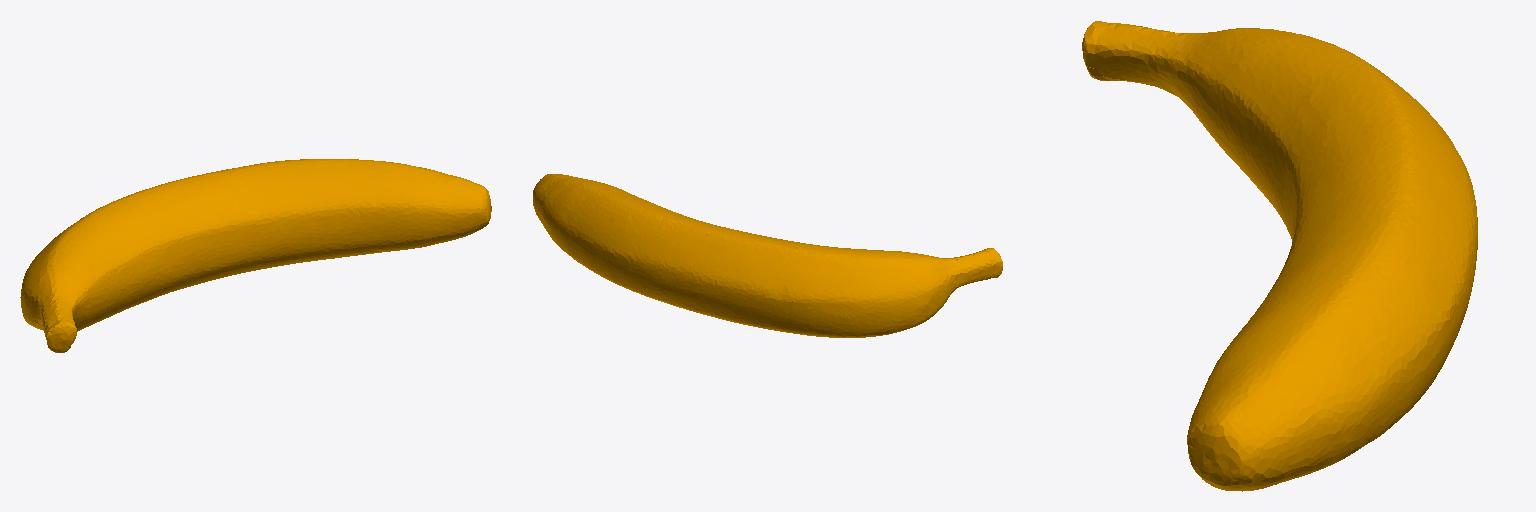
URDF robot description (model.urdf):
<?xml version="0.0" ?>
<robot name="model.urdf">
  <link name="baseLink">
    <contact>
      <lateral_friction value="1.0"/>
      <rolling_friction value="0.0"/>
      <contact_cfm value="0.0"/>
      <contact_erp value="1.0"/>
    </contact>
    <inertial>
       <mass value=".066"/>
       <inertia ixx="1e-3" ixy="0" ixz="0" iyy="1e-3" iyz="0" izz="1e-3"/>
    </inertial>
    <visual>
      <geometry>
        <mesh filename="textured_simple_reoriented.obj" scale="1 1 1"/>
      </geometry>
    </visual>
    <collision>
      <geometry>
    	 	<mesh filename="collision_vhacd.obj" scale="1 1 1"/>
      </geometry>
    </collision>
  </link>
</robot>

--- What the picture shows (computed from the rendered views, not written in the file) ---
Views: 3 orthographic renders of the robot side by side, from view 1: azimuth 30°, elevation 25°; view 2: azimuth 150°, elevation 25°; view 3: azimuth 270°, elevation 25°.
Robot: model.urdf — 1 links, 0 joints (none); root link baseLink; default pose: all joints at 0.
Links seen in each view (by area): view 1: baseLink; view 2: baseLink; view 3: baseLink.
Boxes of the visible links, left/top/right/bottom form: baseLink: left=20, top=159, right=491, bottom=352; baseLink: left=533, top=174, right=1002, bottom=337; baseLink: left=1082, top=21, right=1477, bottom=491.
Size in the robot's own frame: 0.1958 by 0.0789 by 0.0375 metres.
Meshes: 1 distinct files referenced, 1 mesh visuals loaded (1 OBJ).
